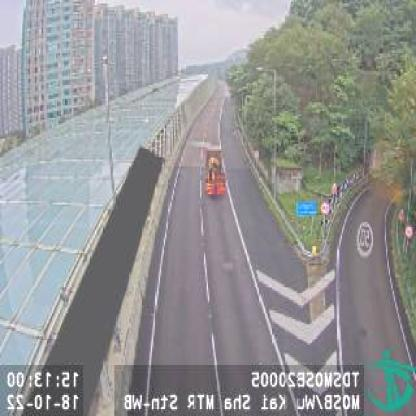Truck: (200, 143, 228, 200)
